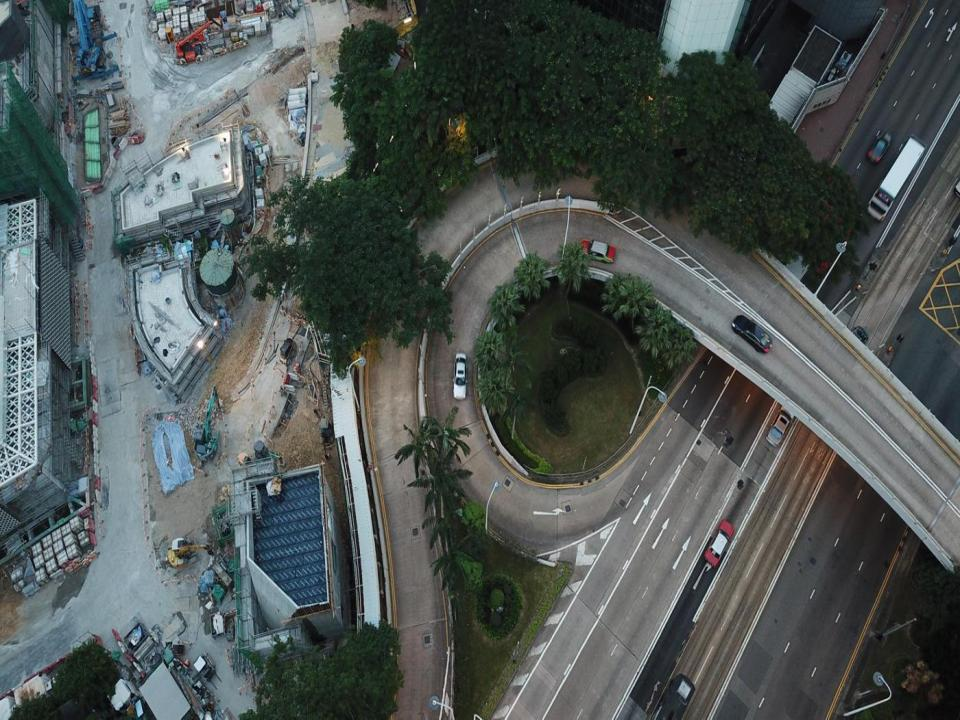bus: (867, 134, 925, 222), (640, 673, 696, 719)
car: (731, 312, 771, 352), (832, 326, 867, 366), (702, 518, 730, 566), (767, 398, 792, 449), (576, 236, 616, 264), (867, 128, 891, 163), (454, 352, 468, 402)
